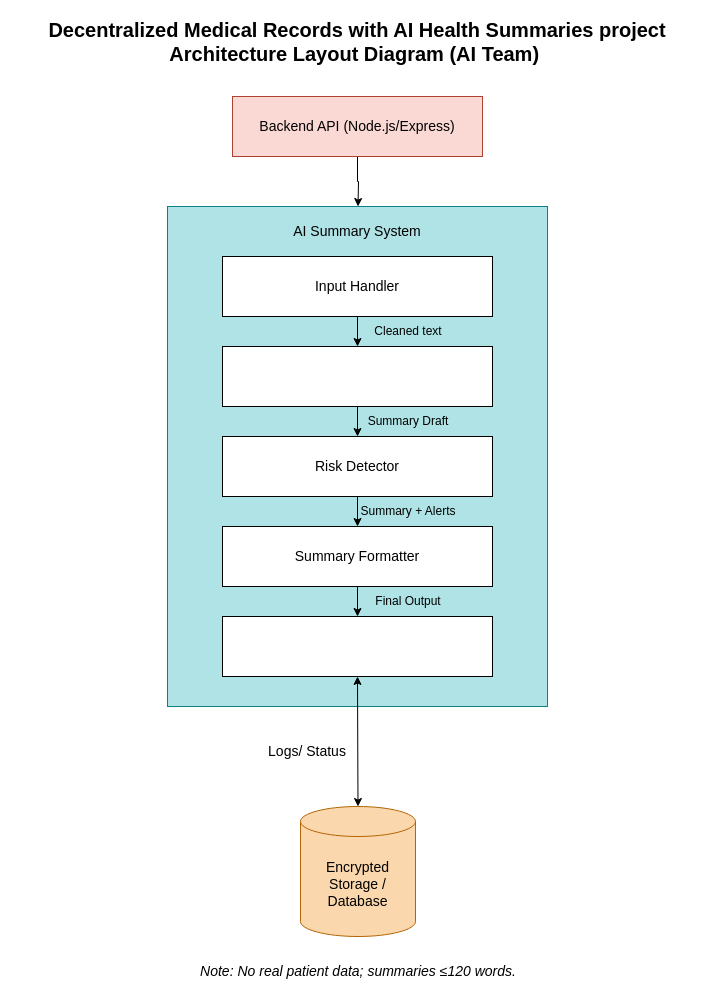
The diagram is 714 pixels wide and 1003 high, and some of its shapes have lost their labels. The shapes that lost their labels are listed below. From the top down, each one's centre as x and y in pixels, then its label:
At point (357, 376): "Summarization Engine".
At point (357, 646): "AI Logger".
